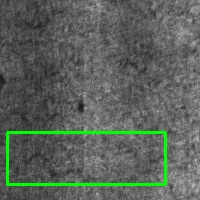crazing: (7, 132, 165, 184)
